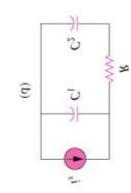Capacitor: (60, 99, 84, 123)
